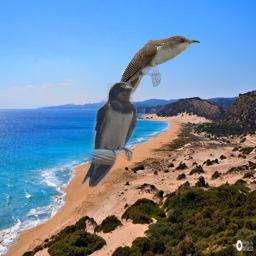Cuckoo: (99, 35, 200, 111)
Swallow: (81, 82, 137, 188)
